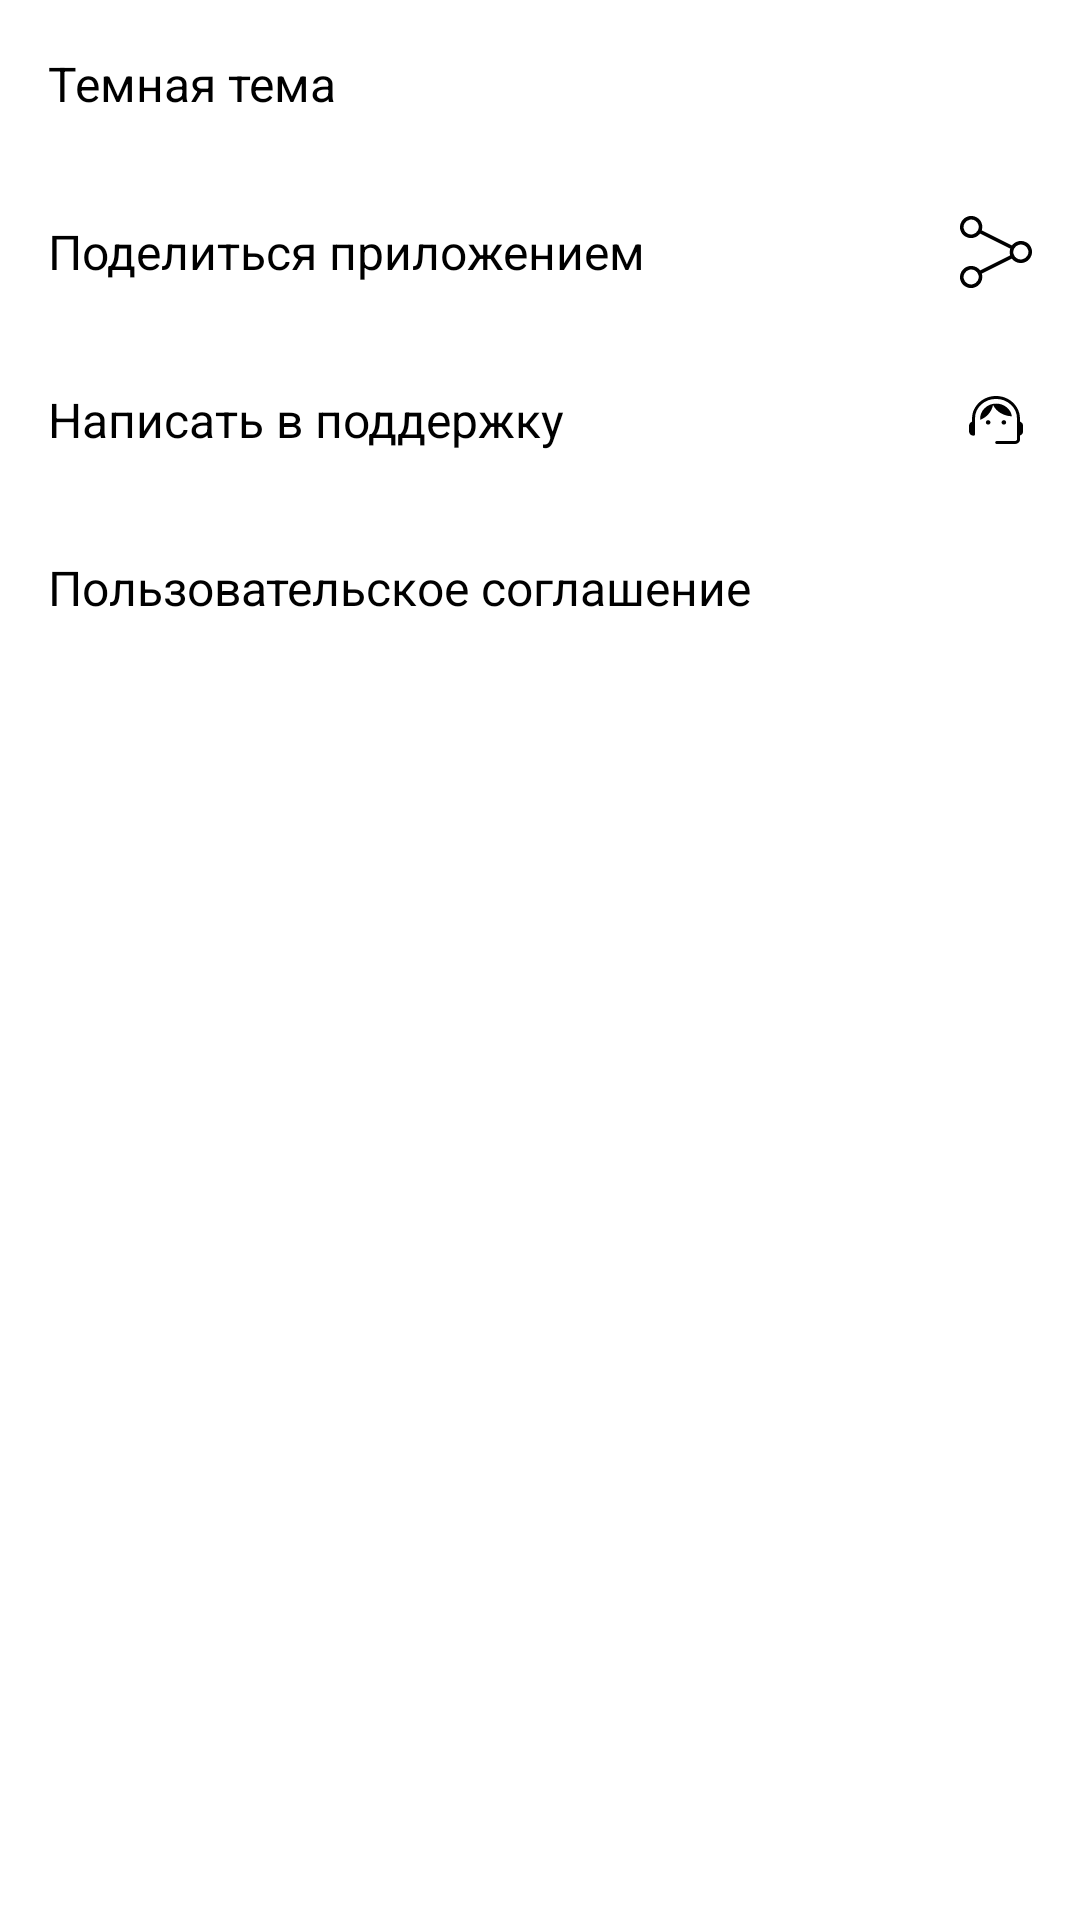

Icons on this 1080px×1920px Android screen, each with the point to tap as point (x, y):
share: point (996, 252)
Иконка поддержки: point (996, 420)
